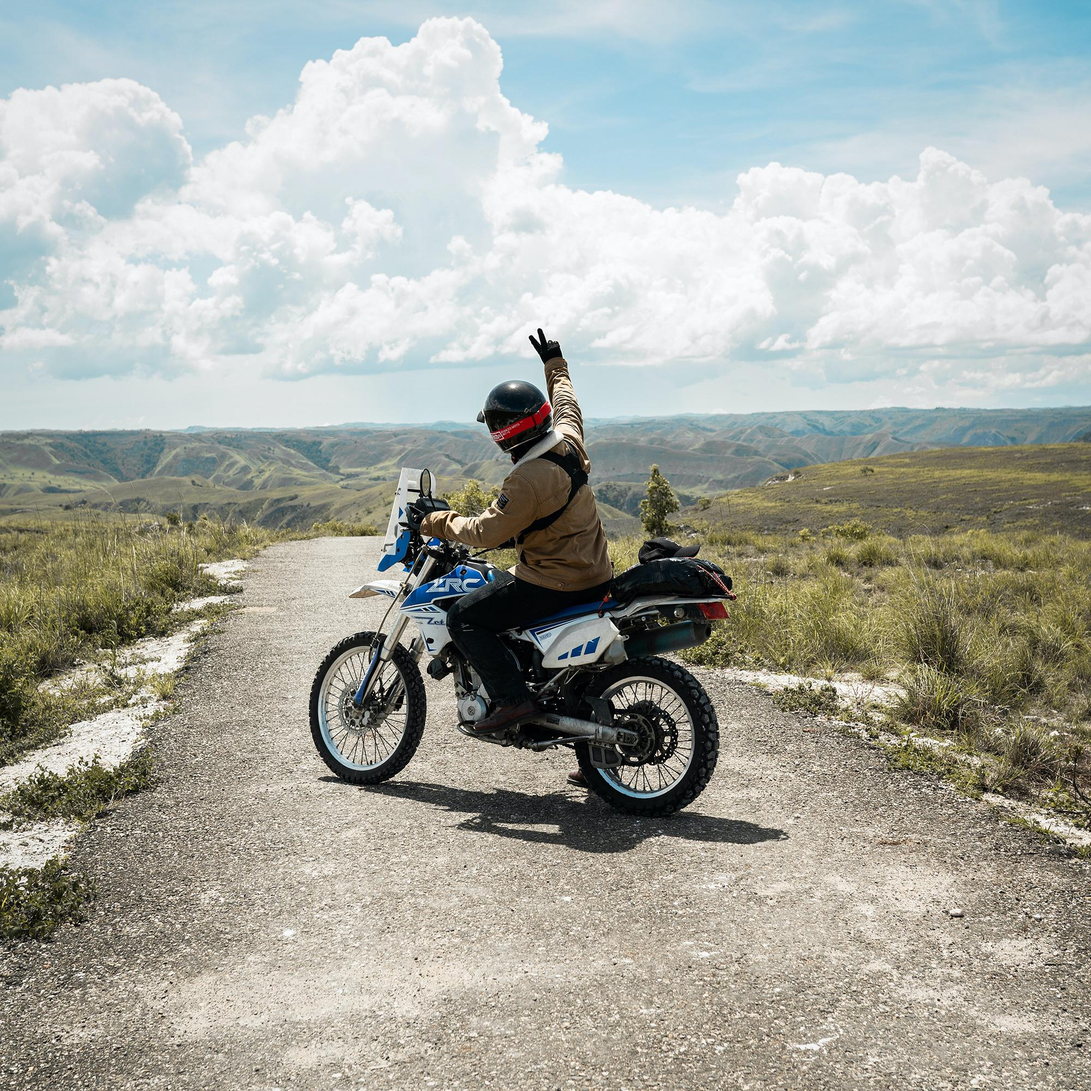helmet: (476, 379, 553, 465)
